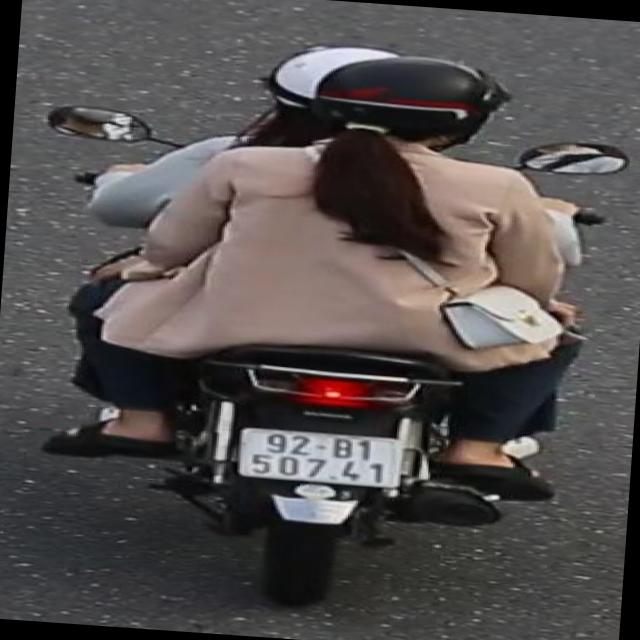LP: (264, 25, 396, 138), (230, 416, 411, 495)
helmet: (300, 45, 517, 186)
